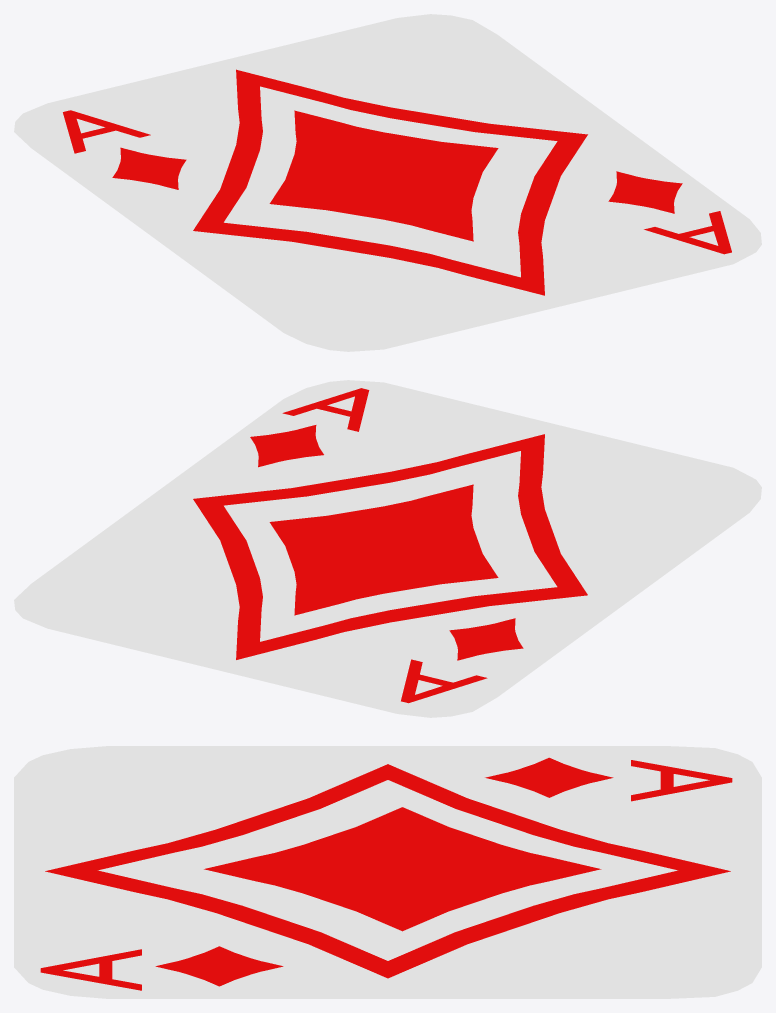
3 views of the same model, one above another, from view 1: azimuth 30°, elevation 25°; view 2: azimuth 150°, elevation 25°; view 3: azimuth 270°, elevation 25° (orthographic). The views are drawn at different scales.
Parts seen in each view (by area): view 1: AceofDiamonds, Plane.002_White, Plane.001_Materia, Plane_Material.002, Plane.004_Materia, Plane.003_Materia, Font_Black_Black.002, Font.001_Bla_Blac.001; view 2: AceofDiamonds, Plane.002_White, Plane.001_Materia, Plane_Material.002, Plane.004_Materia, Plane.003_Materia, Font.001_Bla_Blac.001, Font_Black_Black.002; view 3: AceofDiamonds, Plane.002_White, Plane.001_Materia, Plane_Material.002, Plane.004_Materia, Plane.003_Materia, Font.001_Bla_Blac.001, Font_Black_Black.002.
Boxes of the visible parts, x1,y1,x2,y2 form: AceofDiamonds: (14,14,761,351); Plane.002_White: (224,86,557,277); Plane.001_Materia: (269,110,498,241); Plane_Material.002: (193,69,587,295); Plane.004_Materia: (112,147,186,189); Plane.003_Materia: (608,171,682,213); Font_Black_Black.002: (63,110,150,153); Font.001_Bla_Blac.001: (644,211,731,254); AceofDiamonds: (14,380,761,717); Plane.002_White: (224,451,557,641); Plane.001_Materia: (269,484,498,615); Plane_Material.002: (193,434,587,659); Plane.004_Materia: (449,618,523,660); Plane.003_Materia: (250,425,323,467); Font.001_Bla_Blac.001: (282,388,369,431); Font_Black_Black.002: (401,659,487,703); AceofDiamonds: (14,746,761,998); Plane.002_White: (98,780,677,960); Plane.001_Materia: (204,807,601,931); Plane_Material.002: (45,764,730,978); Plane.004_Materia: (485,757,613,797); Plane.003_Materia: (155,946,283,986); Font.001_Bla_Blac.001: (40,949,141,990); Font_Black_Black.002: (631,760,732,801).
Size of the model in its own units: 1.6 by 0.00974 by 2.
